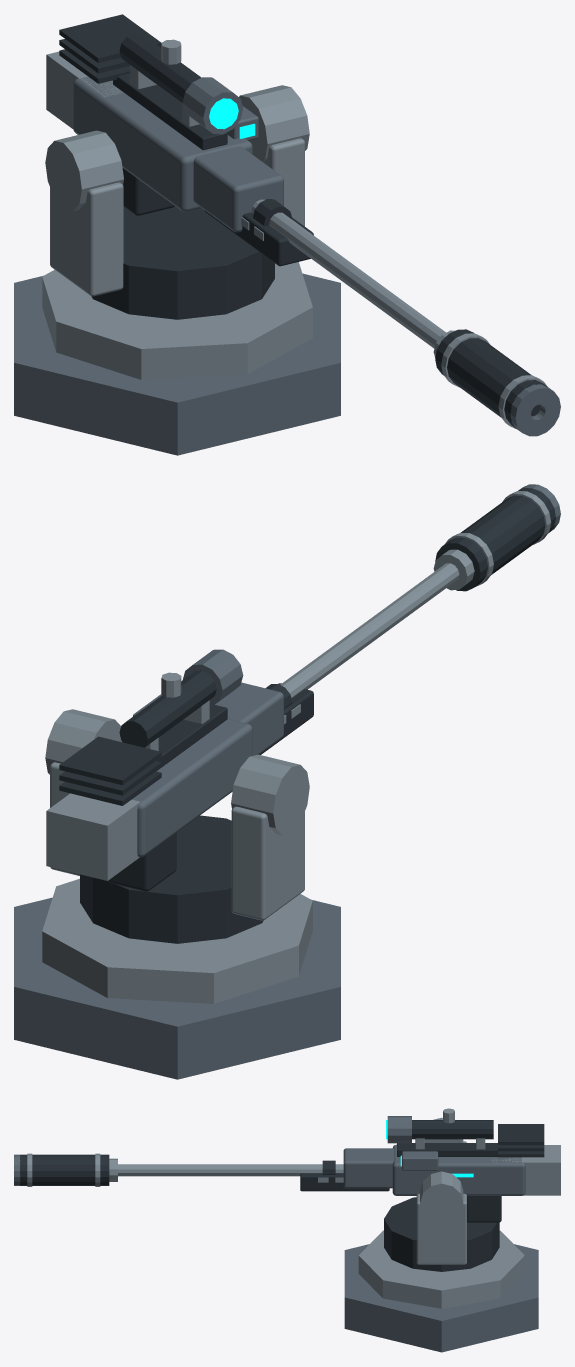
The model's file is needle_t1_d0.glb.
3 renders of one model, top to bottom at view 1: azimuth 30°, elevation 25°; view 2: azimuth 150°, elevation 25°; view 3: azimuth 270°, elevation 25°, orthographic. The views are drawn at different scales.
Parts seen in each view (by area): view 1: RECOIL_ARMOR_GEOMETRY, BASE_ARMOR_GEOMETRY, YAW_ARMOR_GEOMETRY, RECOIL_SIGNAL_GEOMETRY; view 2: RECOIL_ARMOR_GEOMETRY, BASE_ARMOR_GEOMETRY, YAW_ARMOR_GEOMETRY; view 3: RECOIL_ARMOR_GEOMETRY, BASE_ARMOR_GEOMETRY, YAW_ARMOR_GEOMETRY.
Boxes of the visible parts, box(x1,y1,x2,y2) form: RECOIL_ARMOR_GEOMETRY: box(45, 14, 560, 436); BASE_ARMOR_GEOMETRY: box(14, 262, 340, 455); YAW_ARMOR_GEOMETRY: box(50, 138, 304, 319); RECOIL_SIGNAL_GEOMETRY: box(209, 98, 255, 138); RECOIL_ARMOR_GEOMETRY: box(45, 484, 560, 891); BASE_ARMOR_GEOMETRY: box(14, 878, 340, 1079); YAW_ARMOR_GEOMETRY: box(50, 762, 304, 943); RECOIL_ARMOR_GEOMETRY: box(14, 1108, 560, 1222); BASE_ARMOR_GEOMETRY: box(344, 1230, 538, 1352); YAW_ARMOR_GEOMETRY: box(384, 1141, 499, 1271).
Bounding box in the file's own units: 1.55 × 1.48 × 3.79.
